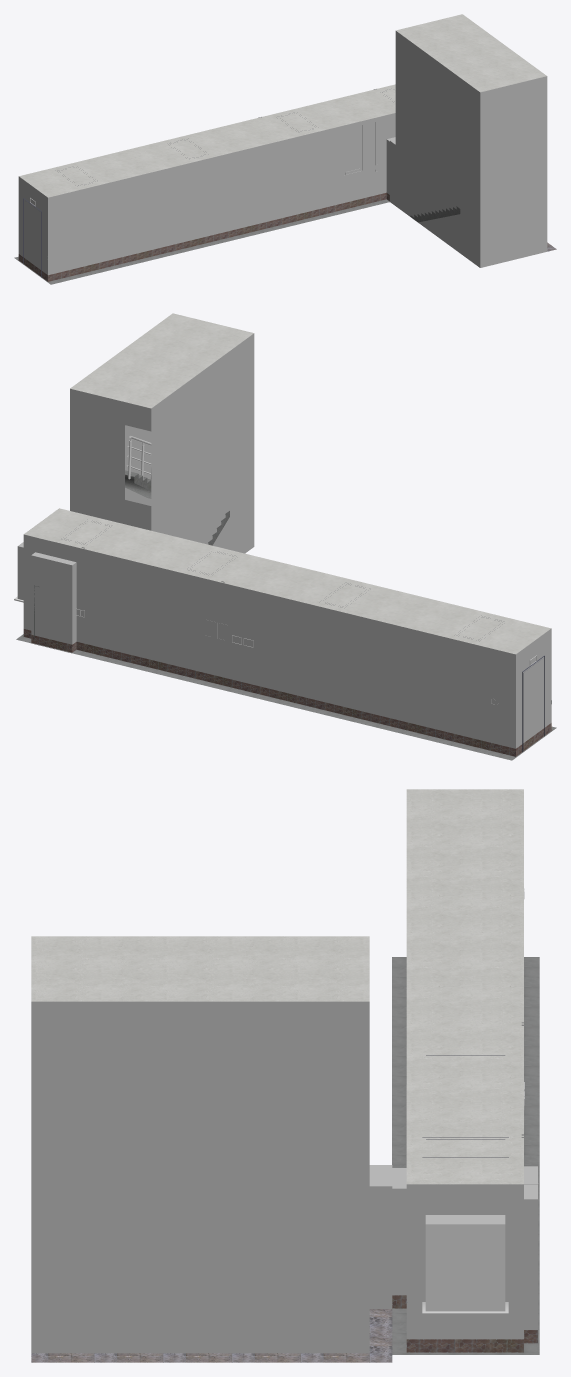
Rendered from koridor.fbx.
3 views of the same model, one above another, from view 1: azimuth 30°, elevation 25°; view 2: azimuth 150°, elevation 25°; view 3: azimuth 270°, elevation 25° (orthographic). The views are drawn at different scales.
Parts seen in each view (by area): view 1: koridor.005, Box072, koridor.001, Object004.001, koridor.012, koridor.002, Line131; view 2: koridor.005, Box072, koridor.001, Object004.001, koridor.012, koridor.002, Line131; view 3: Box072, koridor.001, Object004.001, koridor.005, koridor.002, koridor.004, Object003.002, koridor.012.
Part boxes in pixels (<box>): koridor.005: <box>18,113,395,275</box>; Box072: <box>390,31,547,267</box>; koridor.001: <box>19,84,395,197</box>; Object004.001: <box>396,14,546,92</box>; koridor.012: <box>18,192,389,281</box>; koridor.002: <box>14,199,389,284</box>; Line131: <box>410,206,460,222</box>; koridor.005: <box>17,534,551,748</box>; Box072: <box>70,333,254,553</box>; koridor.001: <box>24,508,550,654</box>; Object004.001: <box>70,313,253,408</box>; koridor.012: <box>23,629,551,756</box>; koridor.002: <box>16,634,556,760</box>; Line131: <box>125,470,229,545</box>; Box072: <box>31,1001,392,1353</box>; koridor.001: <box>406,789,523,1184</box>; Object004.001: <box>31,936,369,1001</box>; koridor.005: <box>392,1166,537,1339</box>; koridor.002: <box>392,957,539,1354</box>; koridor.004: <box>422,1224,508,1313</box>; Object003.002: <box>31,1309,392,1362</box>; koridor.012: <box>392,1295,537,1352</box>.
Bounding box in the file's own units: 1448 × 584 × 764.
